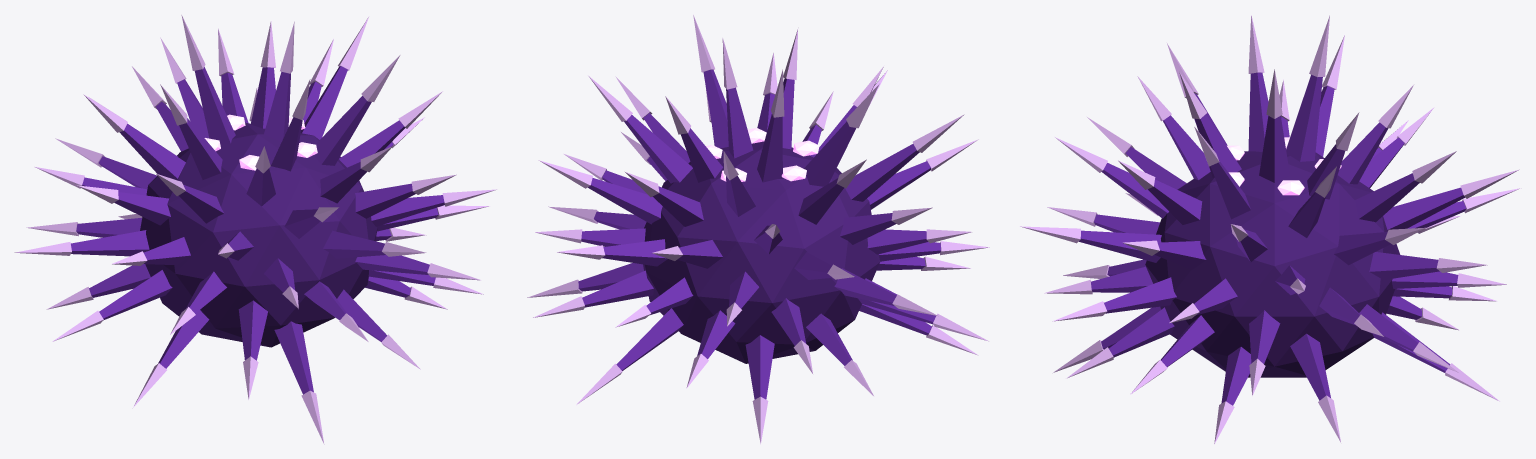
The model's file is puffer-urchin.glb.
3 renders of one model, left to right at view 1: azimuth 30°, elevation 25°; view 2: azimuth 150°, elevation 25°; view 3: azimuth 270°, elevation 25°, orthographic. The views are drawn at different scales.
Visible parts, largest first — view 1: puffer_urchin; view 2: puffer_urchin; view 3: puffer_urchin.
Part boxes in pixels (<box>): puffer_urchin: <box>14,15,497,444</box>; puffer_urchin: <box>527,15,989,444</box>; puffer_urchin: <box>1020,15,1520,444</box>.
Size of the model in its own units: 3.38 by 2.47 by 3.19.
